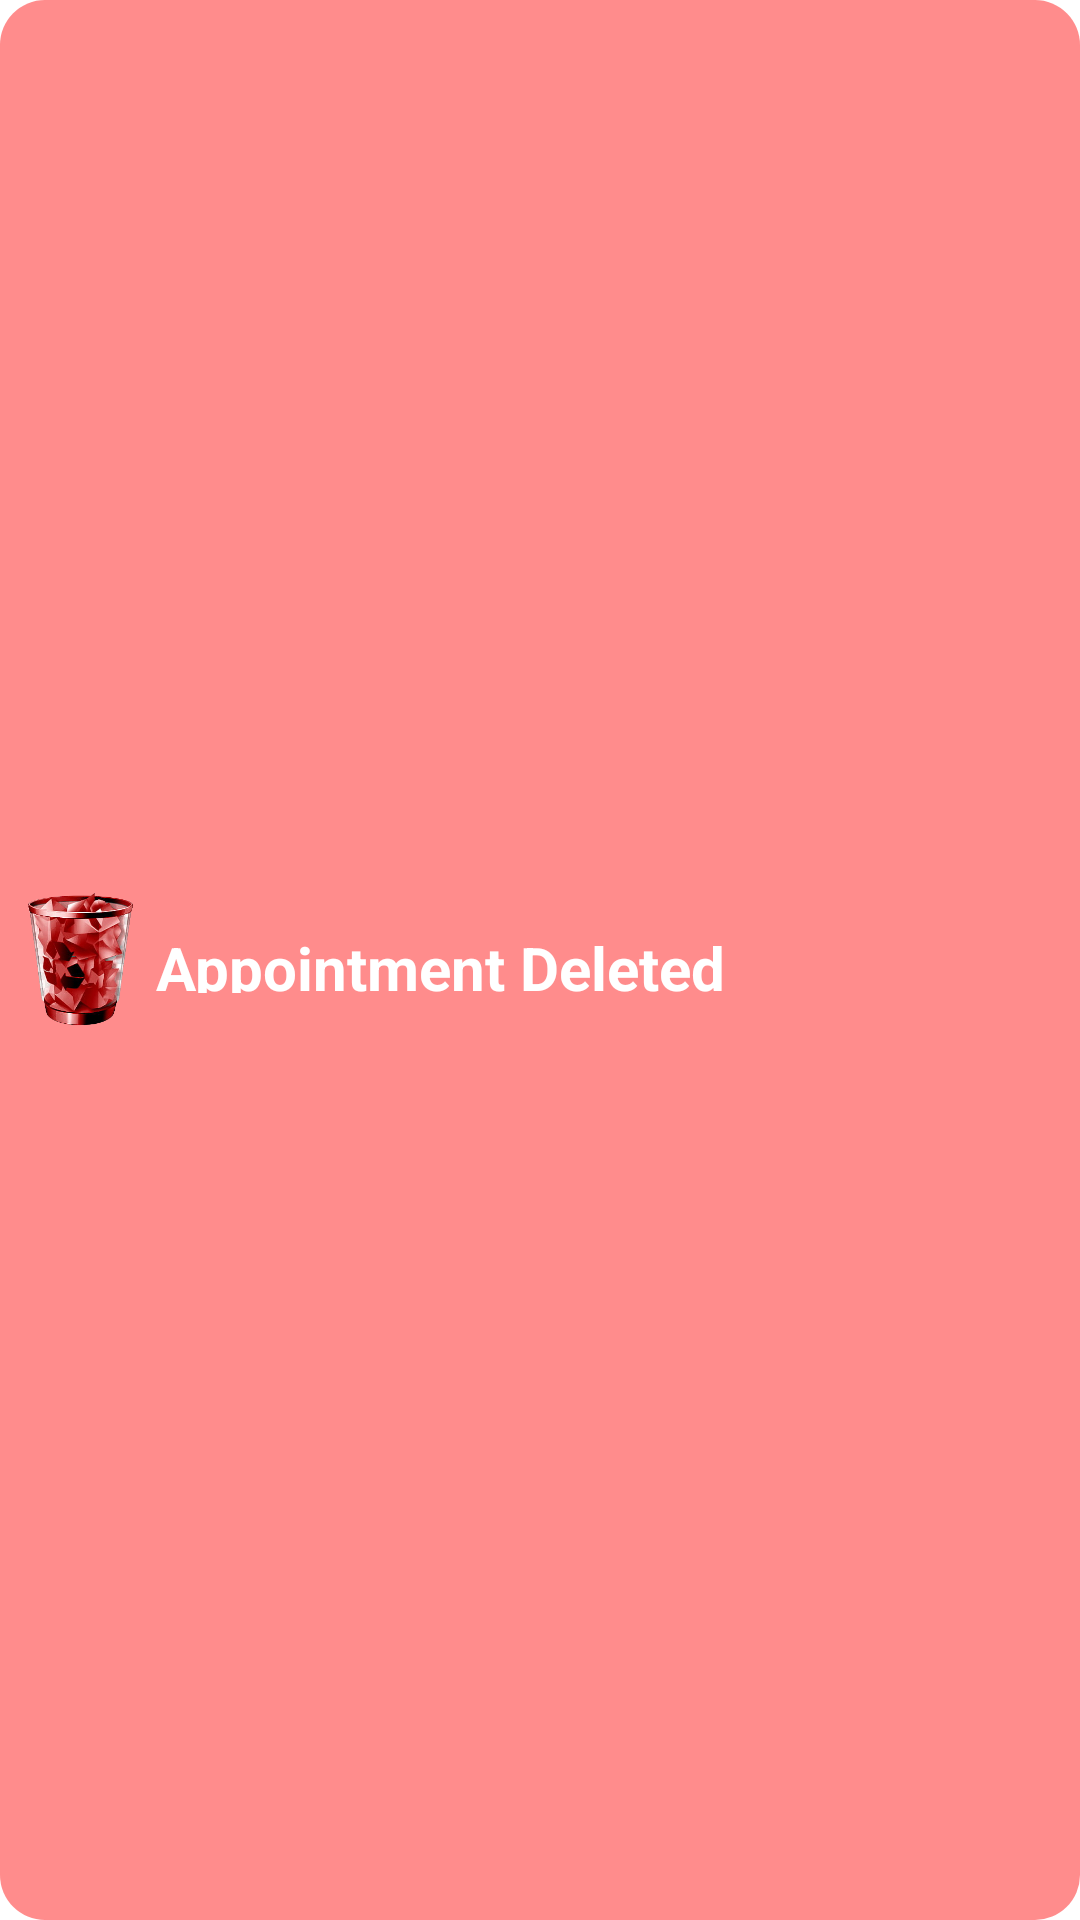

Point at icon controls on the screen. Image size 1080w x 1920h, points as point (x, y).
doc deleete: point (80, 959)
